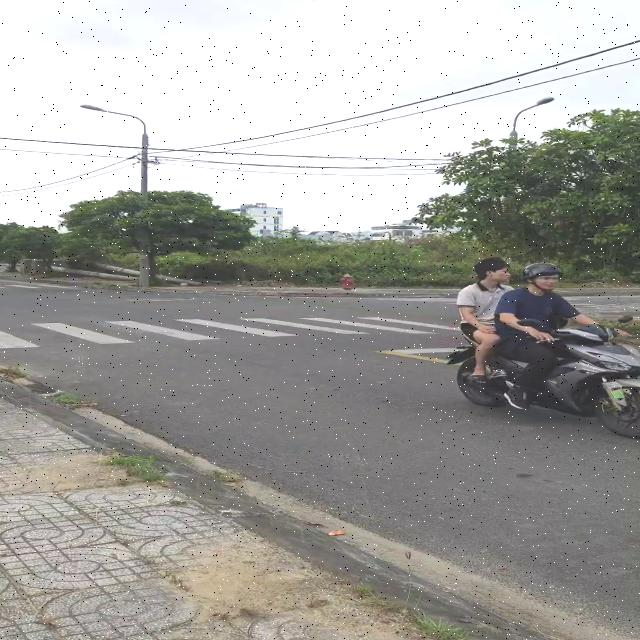no_helmet: (473, 258, 510, 277)
